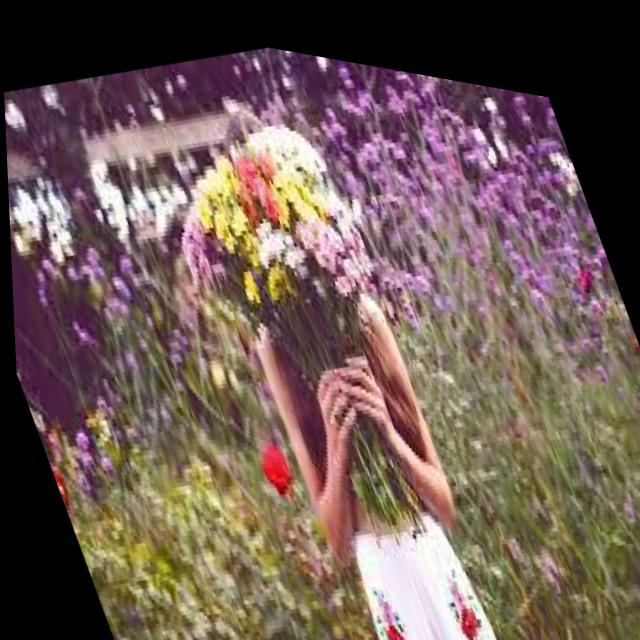Flower: (147, 87, 377, 335)
